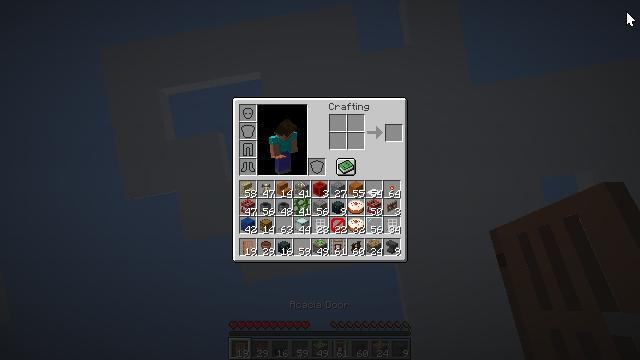cursor: (626, 11, 636, 27)
